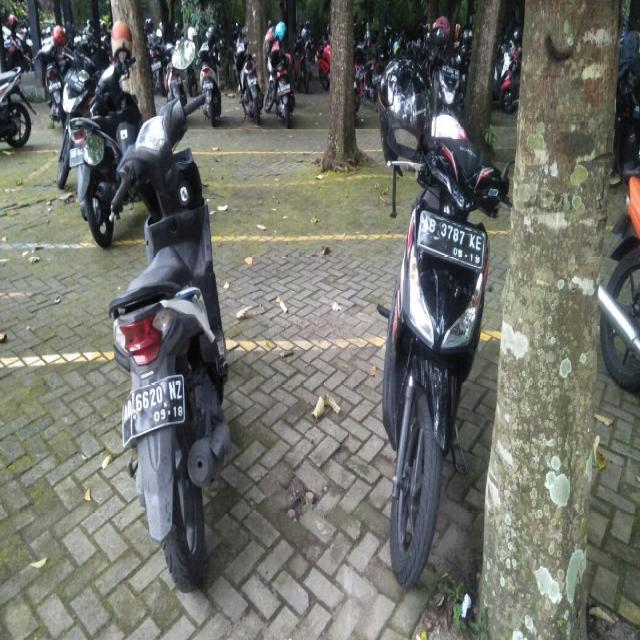plate: (120, 374, 184, 445), (418, 210, 484, 270)
